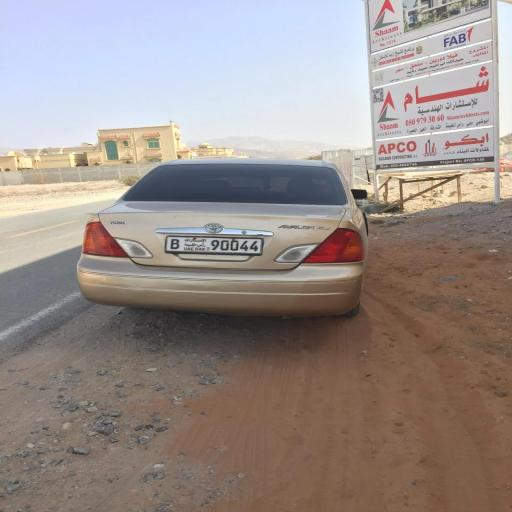license-plates: (166, 237, 262, 254)
